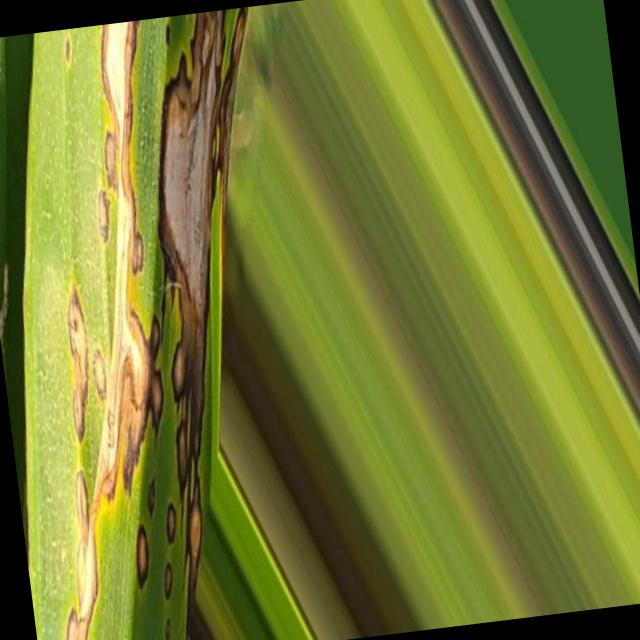Banana_Black_Sigatoka: (0, 6, 287, 332), (3, 339, 231, 640)
